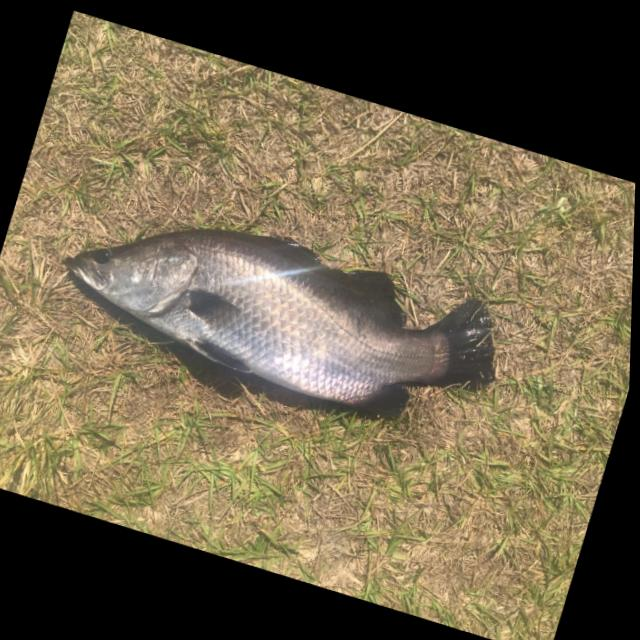Seabass: (31, 168, 519, 468)
